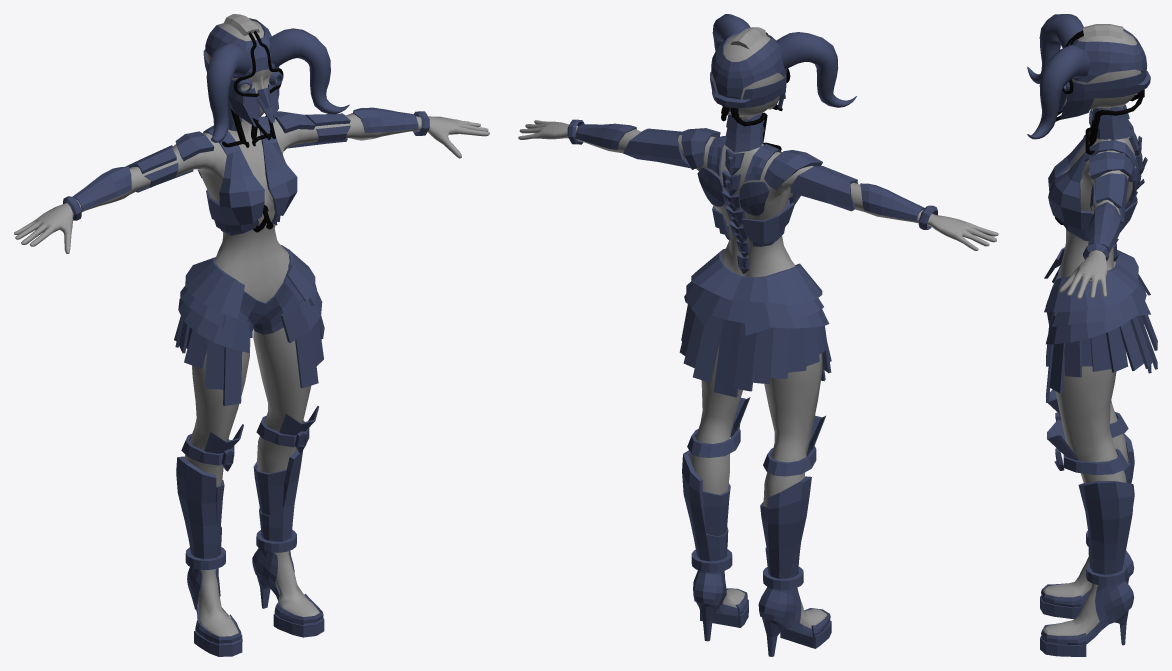
File: player_uv_texturaBase.fbx
The picture shows the model from 3 angles, left to right: view 1: azimuth 30°, elevation 25°; view 2: azimuth 150°, elevation 25°; view 3: azimuth 270°, elevation 25°; orthographic projection.
Visible parts, largest first — view 1: cuerno_high_1:metal, cuerno_high_1:cuerpo, cuerno_high_1:tubos; view 2: cuerno_high_1:metal, cuerno_high_1:cuerpo; view 3: cuerno_high_1:metal, cuerno_high_1:cuerpo, cuerno_high_1:tubos.
Boxes of the visible parts, x1,y1,x2,y2 form: cuerno_high_1:metal: (63, 18, 429, 656); cuerno_high_1:cuerpo: (14, 14, 489, 636); cuerno_high_1:tubos: (222, 31, 283, 232); cuerno_high_1:metal: (567, 14, 937, 656); cuerno_high_1:cuerpo: (518, 27, 998, 628); cuerno_high_1:metal: (1027, 14, 1157, 656); cuerno_high_1:cuerpo: (1043, 24, 1141, 635); cuerno_high_1:tubos: (1055, 30, 1144, 224).
Size of the model in its own units: 2.31 by 2.86 by 0.5618.
